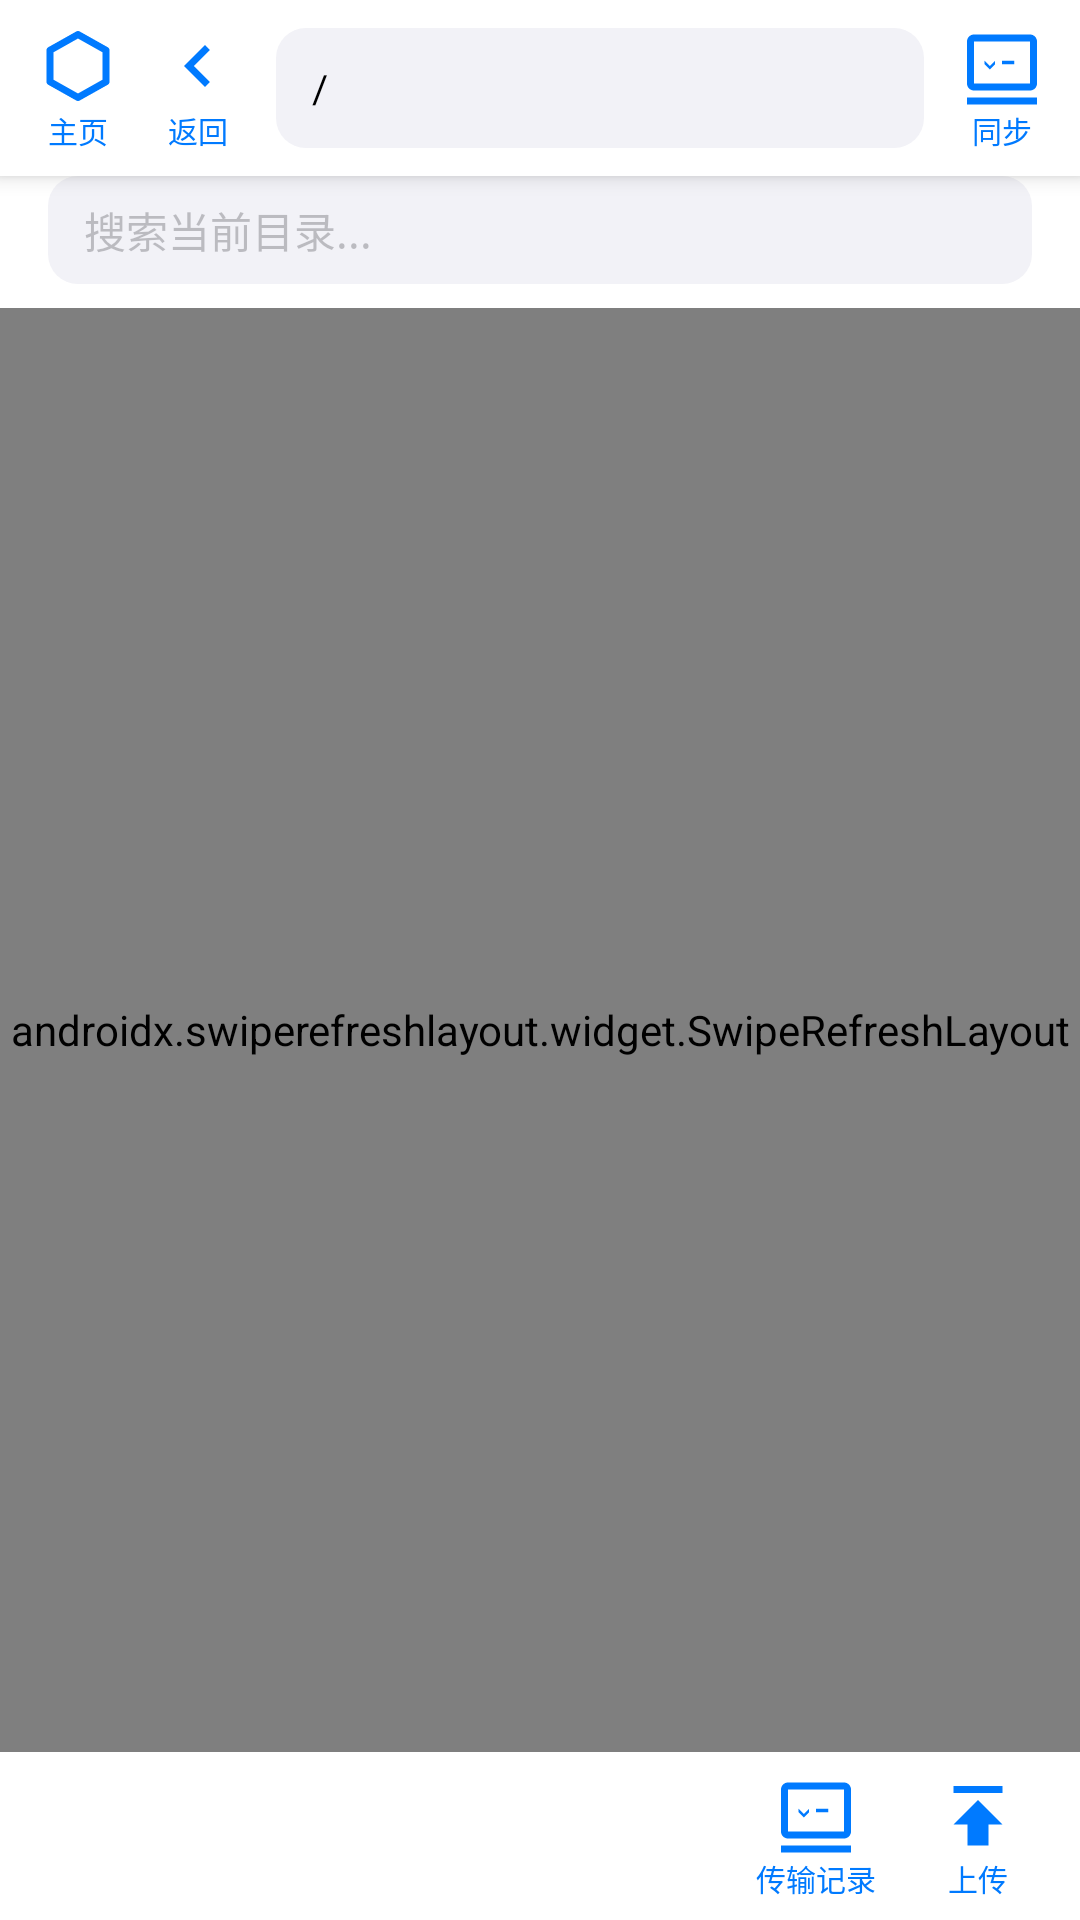

Named icons in this screenshot (1080x1920) and their bounding boxes, rect(x1, y1, x2, y2):
terminal: rect(967, 34, 1037, 105), rect(781, 1782, 851, 1853)
